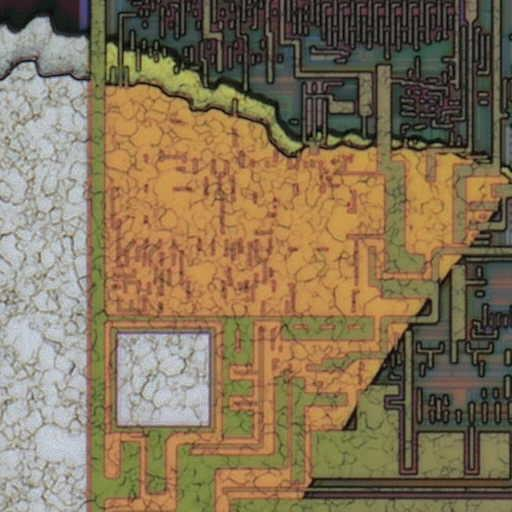BLOCK ETCH: (1, 6, 512, 512)
